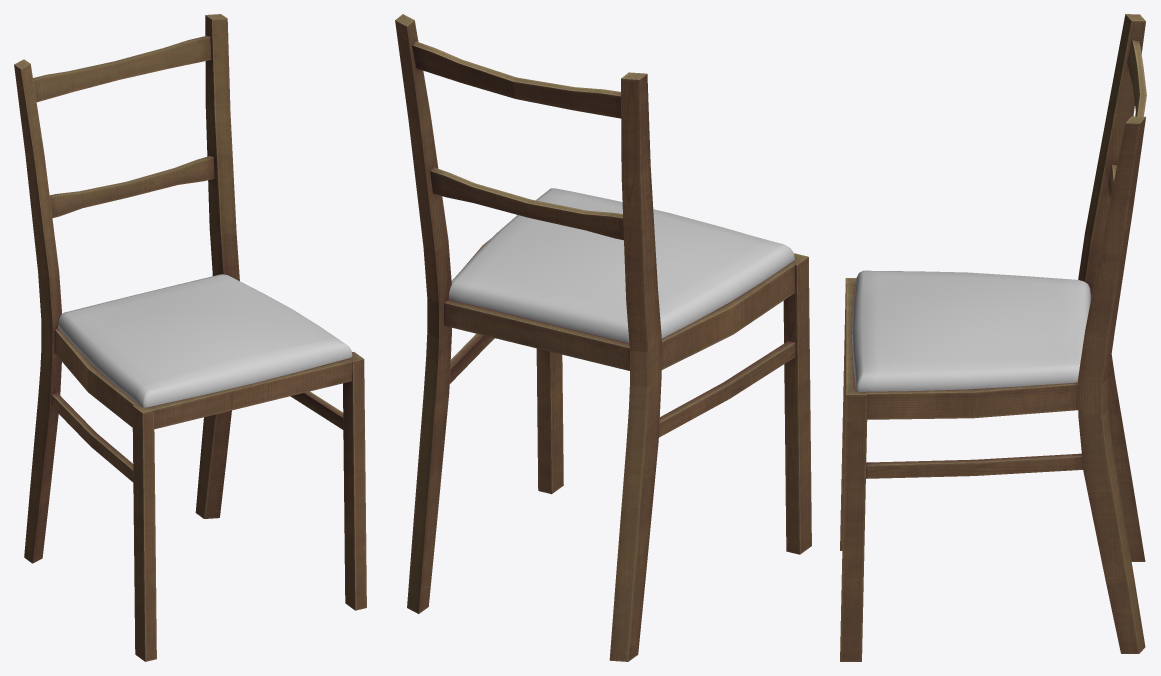
File: Chair.fbx
3 renders of one model, left to right at view 1: azimuth 30°, elevation 25°; view 2: azimuth 150°, elevation 25°; view 3: azimuth 270°, elevation 25°, orthographic. The views are drawn at different scales.
Visible parts, largest first — view 1: Plane_Plane.001, Cube_Cube.003; view 2: Plane_Plane.001, Cube_Cube.003; view 3: Plane_Plane.001, Cube_Cube.003.
Part boxes in pixels (x1,y1,x2,y2): Plane_Plane.001: [14, 14, 366, 661]; Cube_Cube.003: [58, 274, 352, 407]; Plane_Plane.001: [395, 14, 811, 661]; Cube_Cube.003: [448, 188, 794, 343]; Plane_Plane.001: [840, 14, 1146, 661]; Cube_Cube.003: [851, 270, 1090, 391].
Bounding box in the file's own units: 2.05 × 4.39 × 2.28.
